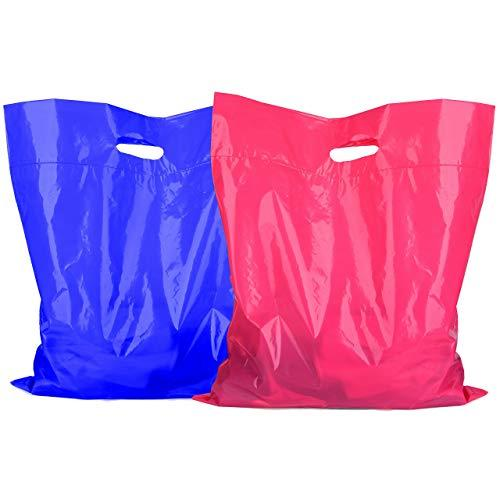LDPE: (199, 47, 500, 461)
